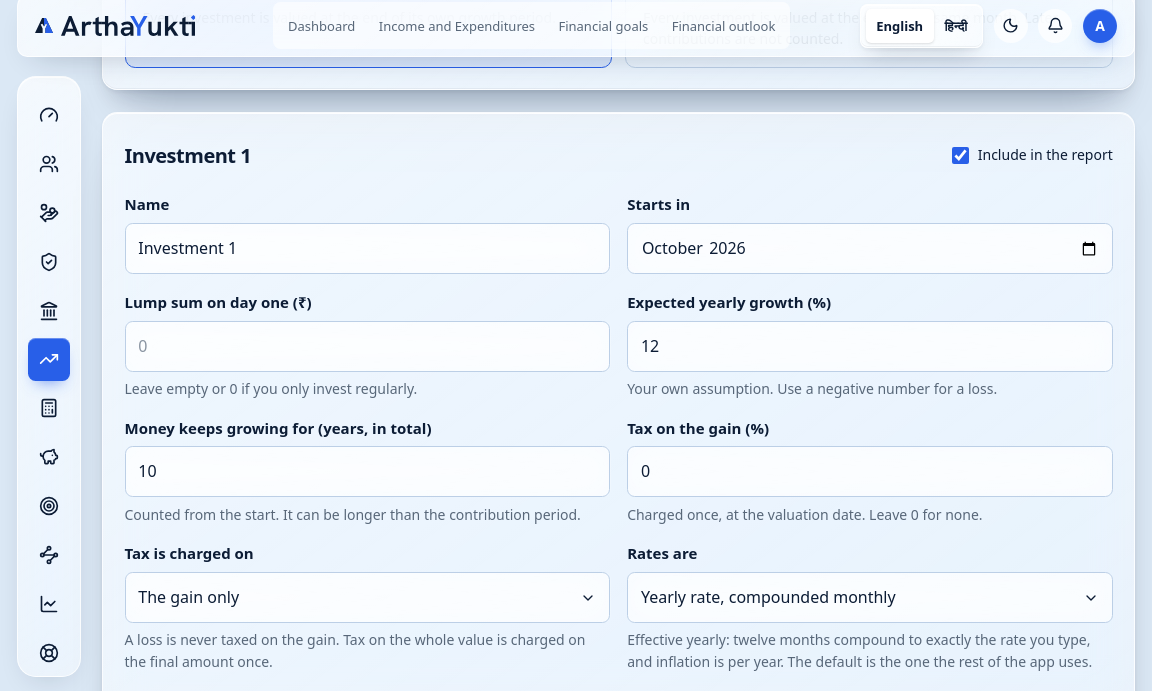
Test: the Calculators page › values the investment on the server and shows its figures
(page scrolled)
Type "100000" into the field labelled "Lump sum on day one (₹)" at [367, 346], box [124,321,610,372]
(page scrolled)
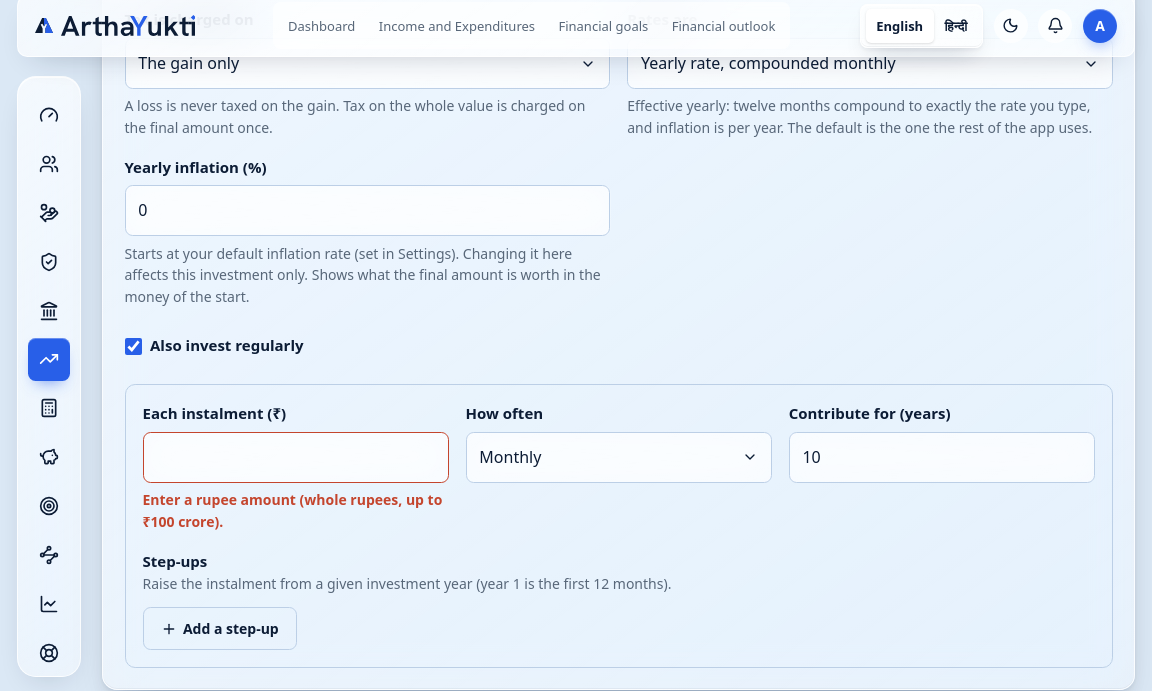
Click the checkbox labelled "Also invest regularly" at [133, 346], box [124,338,142,355]
(page scrolled)
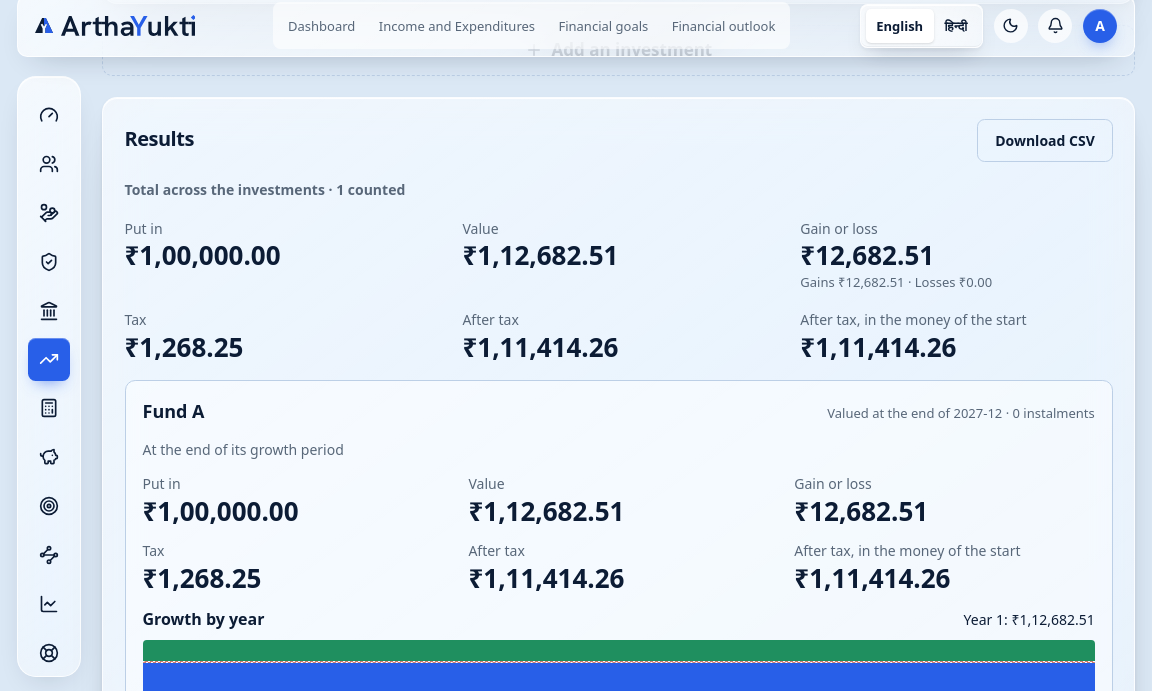
Result: the text "₹1,12,682.51" below "Total across the investments" is shown at [462,237,618,273]
Result: the 1st text "₹1,11,414.26" is shown at [462,328,618,364]
